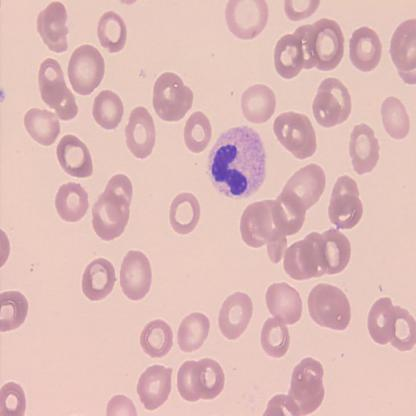Band Neutrophil: (206, 122, 267, 203)
